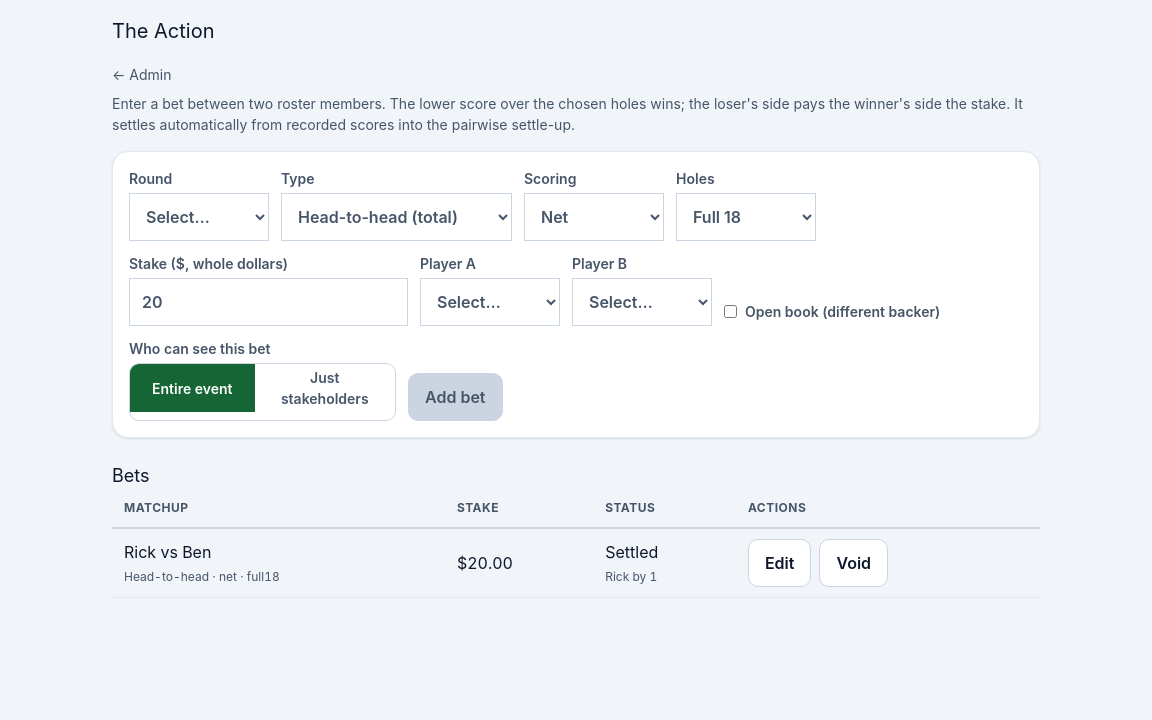
AdminBetsPage — Story 1.4 void › Edit loads the bet into the form; a confirmed change PATCHes the new (whole-dollar) stake
Note: Click Edit → form populates from the bet ($20.00 → "20") and edit mode shows.
Click the button with test id "edit-bet-1" at x=780, y=563, box [748,539,811,587]
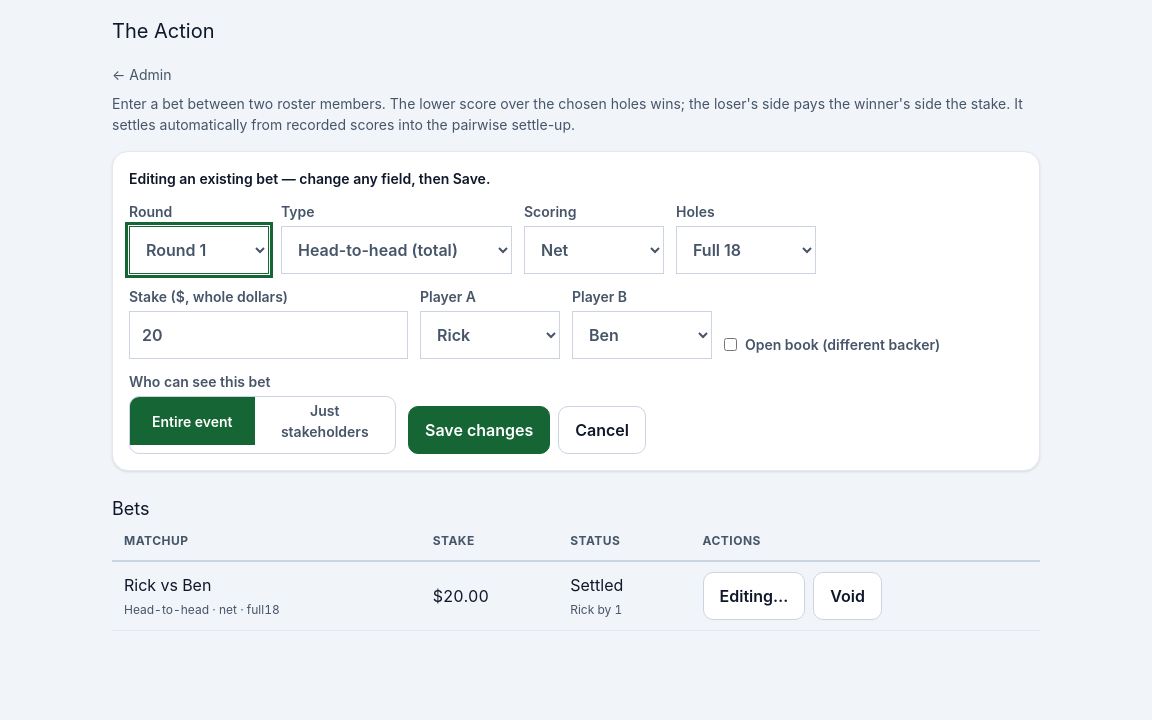
Now the message "Editing an existing bet — change any field, then Save." is shown, box [129,170,490,187]
Now the button with test id "create-bet-btn" is gone
Replace the text in the number field with test id "stake-input" with "30" at x=268, y=335, box [129,311,408,359]
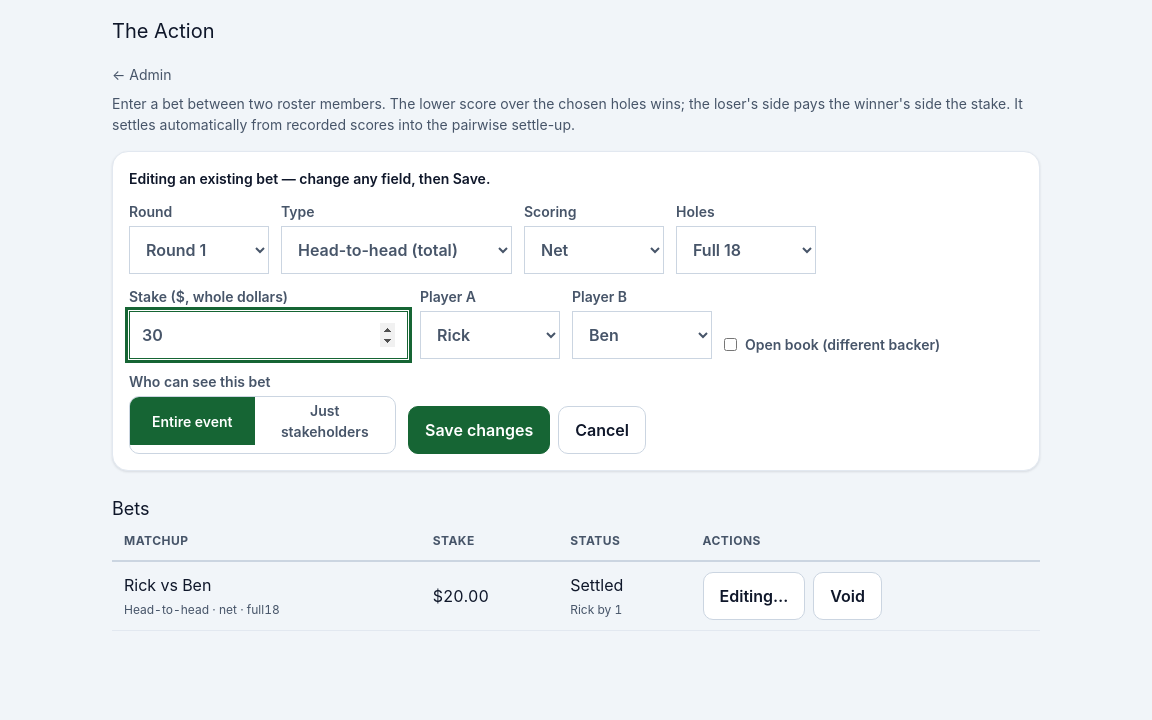
Click the button with test id "save-edit-btn" at x=479, y=430, box [408,406,550,454]
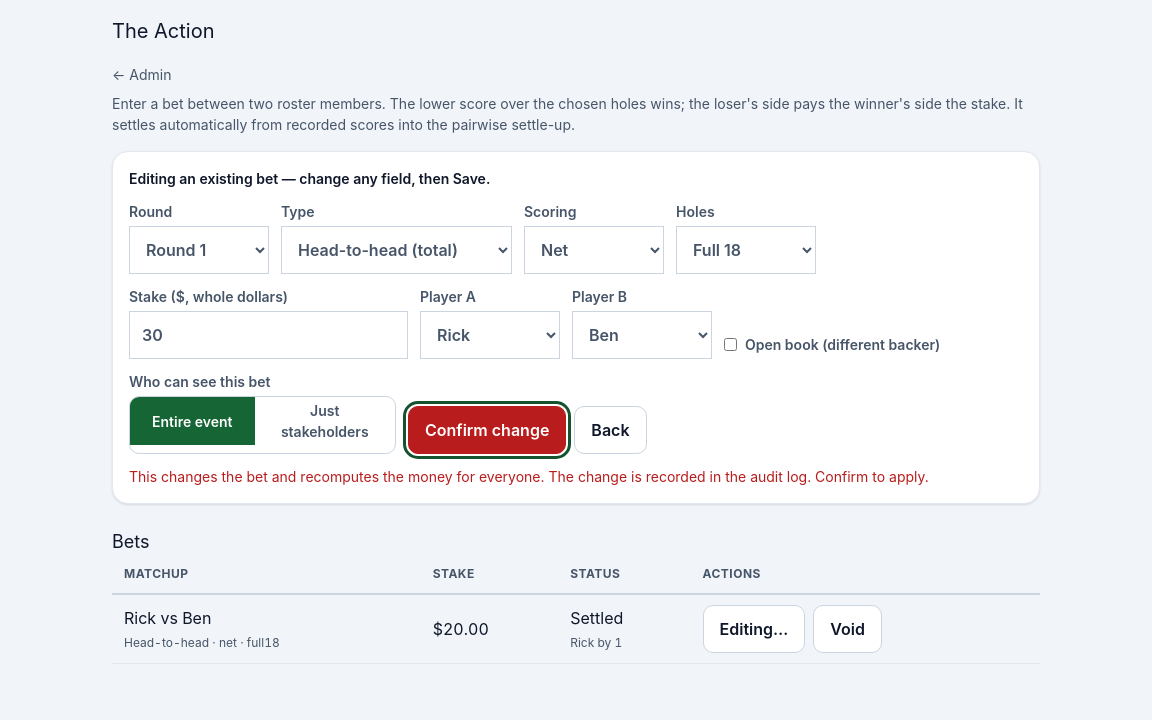
Now the message with test id "edit-warning" is shown, box [129,466,1023,487]
Note: Confirm → PATCH posts whole-dollar cents and edit mode exits.
Click the button with test id "confirm-edit-btn" at x=487, y=430, box [408,406,566,454]
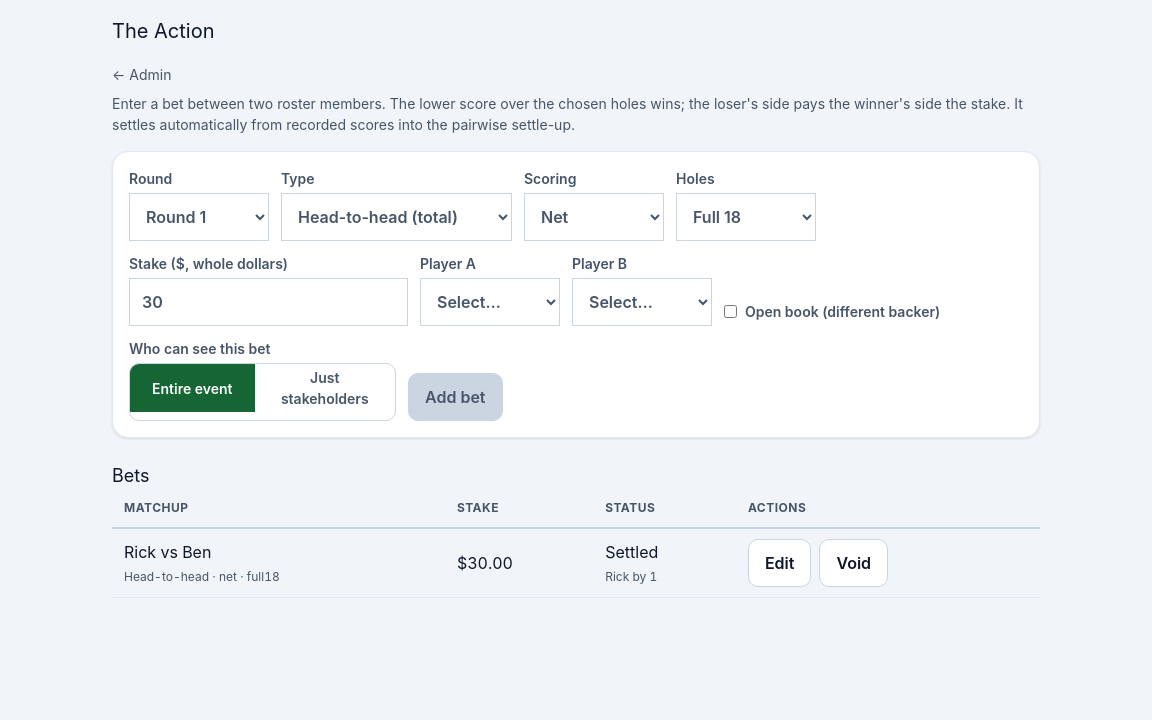
Now the message with test id "editing-banner" is gone
